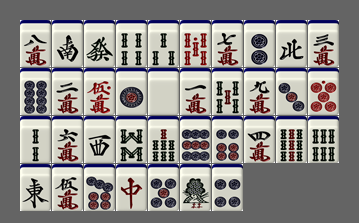0m: (84, 68, 115, 115)
0p: (308, 68, 339, 115)
0s: (180, 20, 211, 67)
1m: (180, 68, 211, 115)
1p: (116, 68, 147, 115)
1s: (180, 164, 211, 211)
1z: (20, 164, 51, 211)
2m: (52, 68, 83, 115)
2p: (244, 20, 275, 67)
2s: (20, 116, 51, 163)
2z: (52, 20, 83, 67)
3m: (308, 20, 339, 67)
3p: (276, 68, 307, 115)
3s: (148, 20, 179, 67)
3z: (84, 116, 115, 163)
4m: (244, 116, 275, 163)
4p: (212, 164, 243, 211)
4s: (116, 20, 147, 67)
4z: (276, 20, 307, 67)
5m: (52, 164, 83, 211)
5p: (148, 164, 179, 211)
5s: (212, 68, 243, 115)
5z: (148, 68, 179, 115)
6m: (52, 116, 83, 163)
6p: (212, 116, 243, 163)
6s: (308, 116, 339, 163)
6z: (84, 20, 115, 67)
7m: (212, 20, 243, 67)
7p: (84, 164, 115, 211)
7s: (148, 116, 179, 163)
7z: (116, 164, 147, 211)
8m: (20, 20, 51, 67)
8p: (20, 68, 51, 115)
8s: (116, 116, 147, 163)
9m: (244, 68, 275, 115)
9p: (180, 116, 211, 163)
9s: (276, 116, 307, 163)
